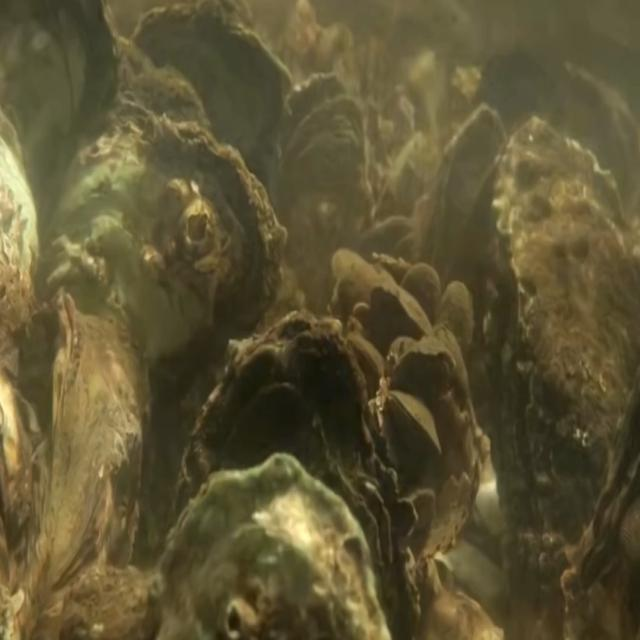Oyster-Closed: (54, 111, 288, 525), (178, 307, 419, 640), (481, 115, 640, 558), (154, 452, 392, 640), (386, 389, 440, 453), (392, 346, 457, 394)
Oyster-Indeterminate: (20, 285, 149, 640), (425, 103, 510, 334), (369, 280, 432, 334), (401, 260, 440, 331), (439, 279, 472, 355)
Oyster-Open: (270, 72, 367, 284)
